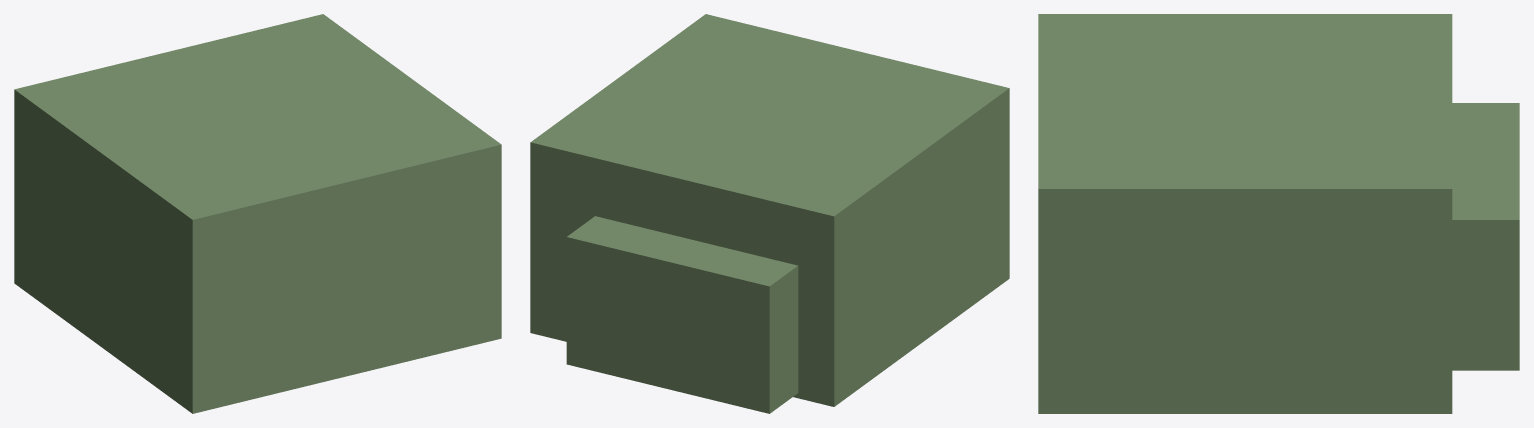
The model's file is shrub_v1_far.gltf.
3 views of the same model, side by side, from view 1: azimuth 30°, elevation 25°; view 2: azimuth 150°, elevation 25°; view 3: azimuth 270°, elevation 25° (orthographic). The views are drawn at different scales.
Visible parts, largest first — view 1: cover; view 2: cover; view 3: cover.
Boxes of the visible parts, box(x1,y1,x2,y2) form: cover: box(14, 14, 501, 413); cover: box(530, 14, 1009, 413); cover: box(1038, 14, 1519, 413).
Bounding box in the file's own units: 0.5503 × 0.3302 × 0.6399.
